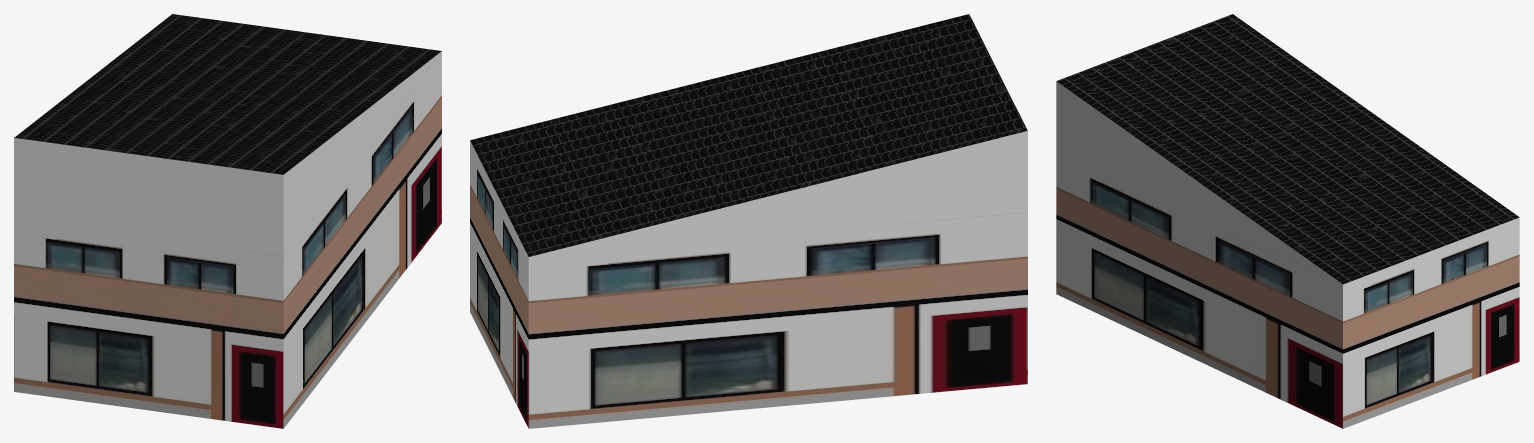
3 renders of one model, left to right at view 1: azimuth 30°, elevation 25°; view 2: azimuth 150°, elevation 25°; view 3: azimuth 270°, elevation 25°, orthographic. The views are drawn at different scales.
Visible parts, largest first — view 1: CityEngineMaterial_5_m, CityEngineMaterial_14_m, CityEngineMaterial_3_m; view 2: CityEngineMaterial_5_m, CityEngineMaterial_14_m, CityEngineMaterial_3_m; view 3: CityEngineMaterial_5_m, CityEngineMaterial_14_m, CityEngineMaterial_3_m.
Boxes of the visible parts, x1,y1,x2,y2 form: CityEngineMaterial_5_m: [14, 51, 441, 428]; CityEngineMaterial_14_m: [14, 14, 441, 174]; CityEngineMaterial_3_m: [14, 51, 441, 256]; CityEngineMaterial_5_m: [470, 140, 1027, 428]; CityEngineMaterial_14_m: [470, 14, 1027, 256]; CityEngineMaterial_3_m: [530, 131, 1027, 256]; CityEngineMaterial_5_m: [1056, 150, 1519, 428]; CityEngineMaterial_14_m: [1056, 14, 1519, 284]; CityEngineMaterial_3_m: [1056, 81, 1341, 283].
Size of the model in its own units: 26.2 by 12.89 by 25.42.
